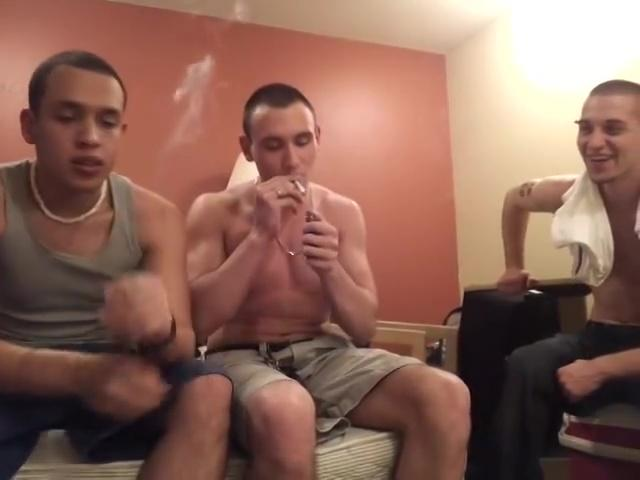cigarette: (293, 176, 312, 198)
